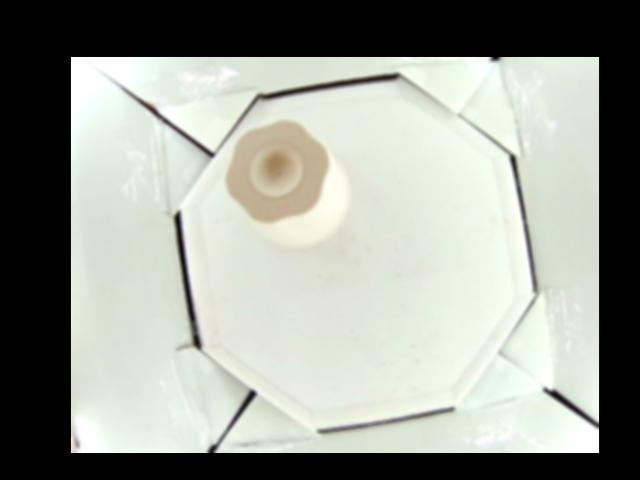Cup: (224, 120, 351, 247)
